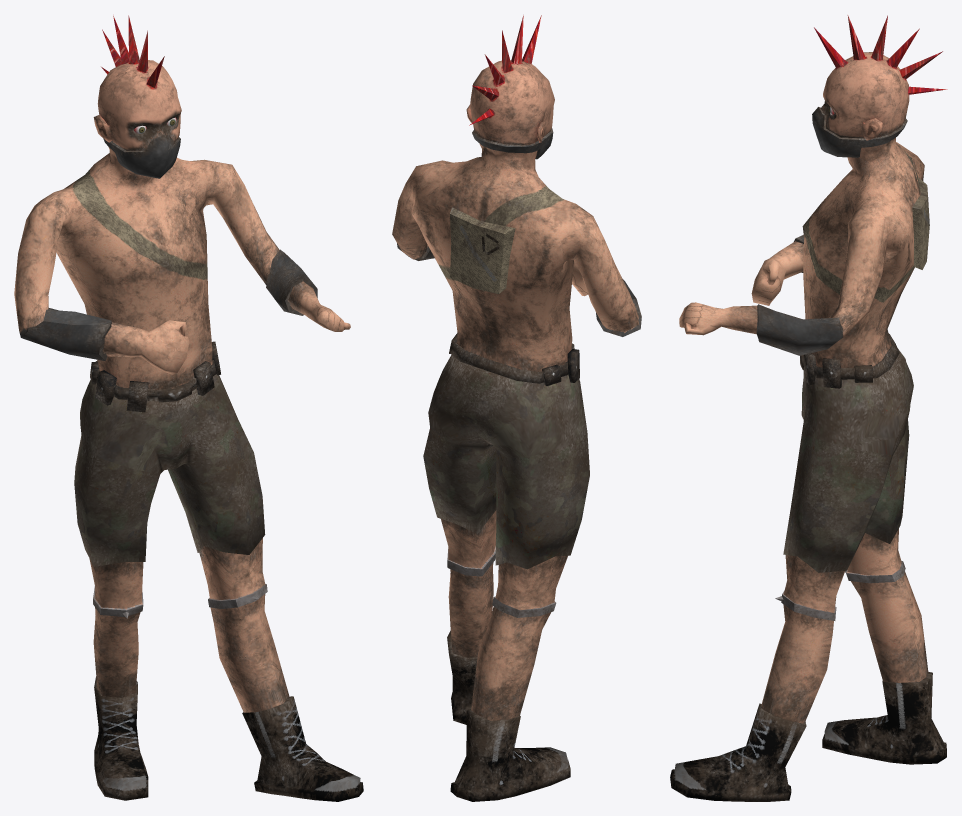
Rendered from Anim_disparar_ametralladora_npc2.0032.obj.
3 renders of one model, left to right at view 1: azimuth 30°, elevation 25°; view 2: azimuth 150°, elevation 25°; view 3: azimuth 270°, elevation 25°, orthographic. The views are drawn at different scales.
Parts seen in each view (by area): view 1: polySurface1; view 2: polySurface1; view 3: polySurface1.
Part boxes in pixels (<box>): polySurface1: <box>14,15,363,801</box>; polySurface1: <box>392,15,641,801</box>; polySurface1: <box>670,15,947,801</box>.
Size of the model in its own units: 3.58 by 10.1 by 3.43.
Materials: 2 (2 with a texture image).
